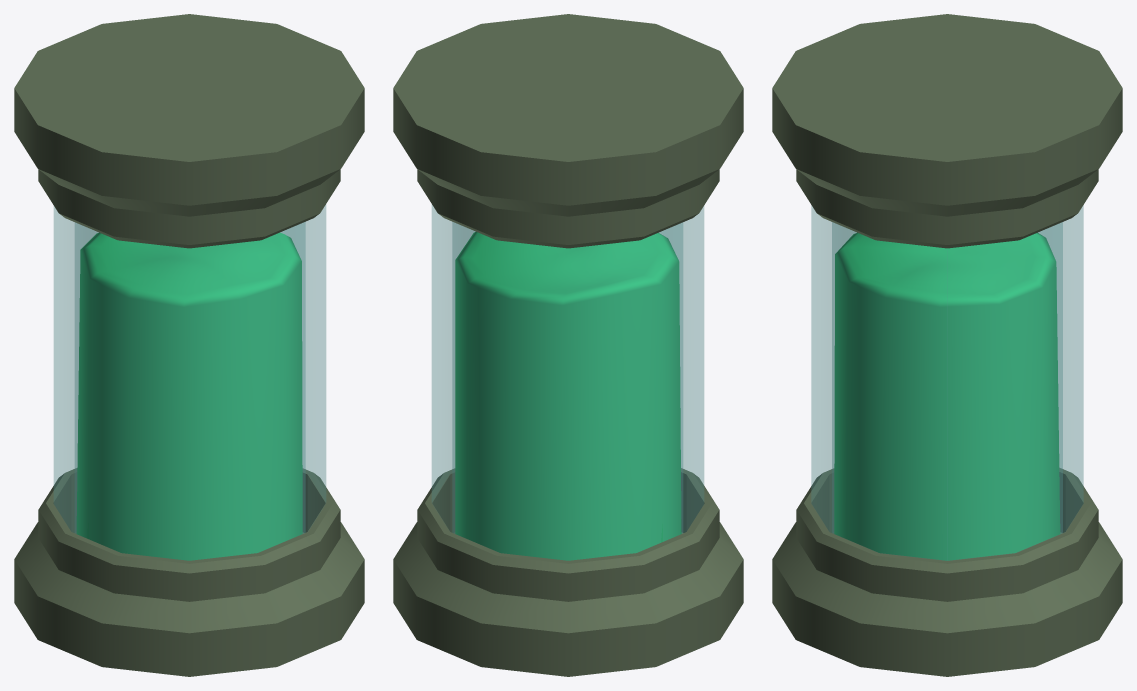
The model's file is goo-chamber-full.fbx.
The picture shows the model from 3 angles, left to right: view 1: azimuth 30°, elevation 25°; view 2: azimuth 150°, elevation 25°; view 3: azimuth 270°, elevation 25°; orthographic projection.
Parts seen in each view (by area): view 1: glass, glass3, tube_base1, tube_base; view 2: glass, glass3, tube_base1, tube_base; view 3: glass, glass3, tube_base1, tube_base.
Boxes of the visible parts, <box> form: glass: <box>54,205,325,560</box>; glass3: <box>76,232,302,560</box>; tube_base1: <box>14,14,364,248</box>; tube_base: <box>14,468,364,676</box>; glass: <box>432,205,703,560</box>; glass3: <box>455,232,681,560</box>; tube_base1: <box>393,14,743,248</box>; tube_base: <box>393,468,743,676</box>; glass: <box>811,205,1083,560</box>; glass3: <box>834,232,1060,560</box>; tube_base1: <box>772,14,1122,248</box>; tube_base: <box>772,468,1122,676</box>.
Size of the model in its own units: 4.86 by 7.88 by 4.86.
